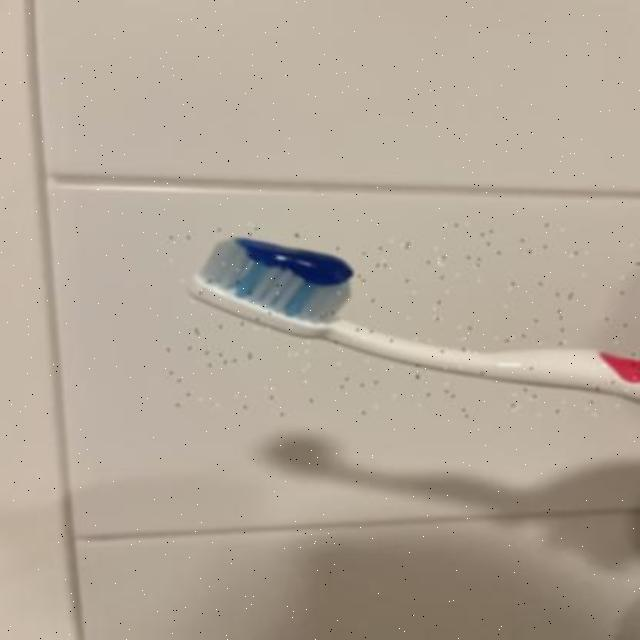toothbrush: (168, 224, 640, 416)
